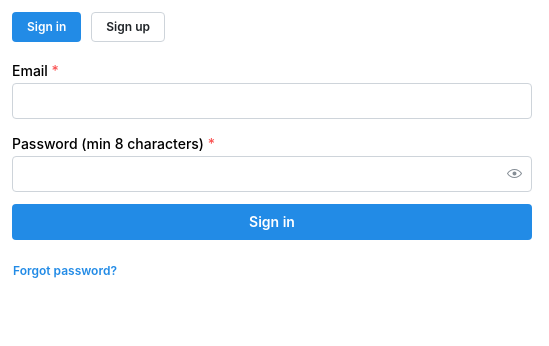
Scenario: AuthPanel flows › blocks signup until consent is given
Click the button "Sign up" at (128,27), box [91,12,165,42]
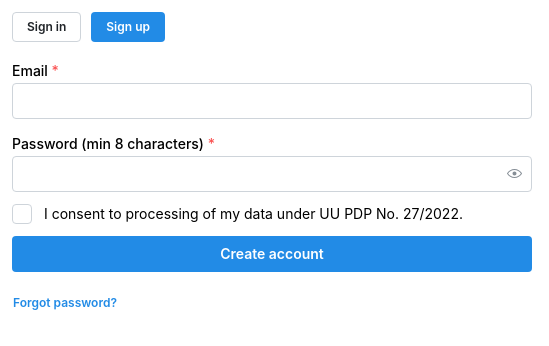
Type "a@b.co" into the field labelled "Email *" at (272,101), box [12,83,532,119]
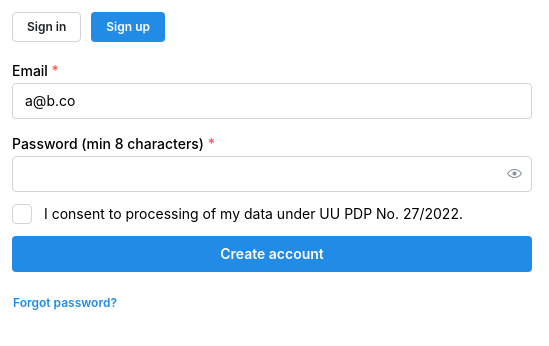
Type "password123" into the password field labelled "Password (min 8 characters) *" at (272,174), box [13,157,531,191]
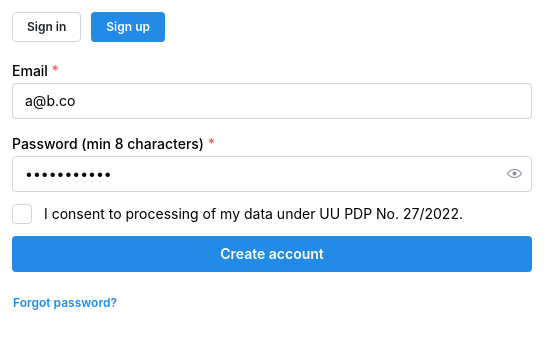
Click the button "Create account" at (272,254), box [12,236,532,272]
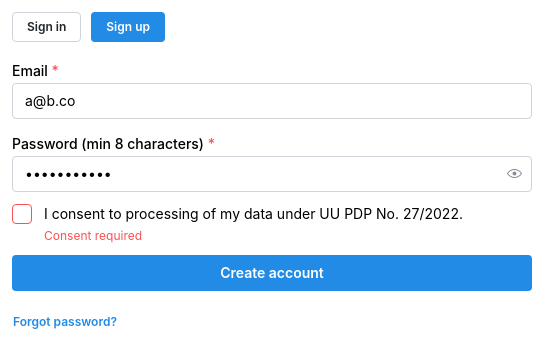
expect the text "Consent required" is shown: met, box [44,228,142,243]
